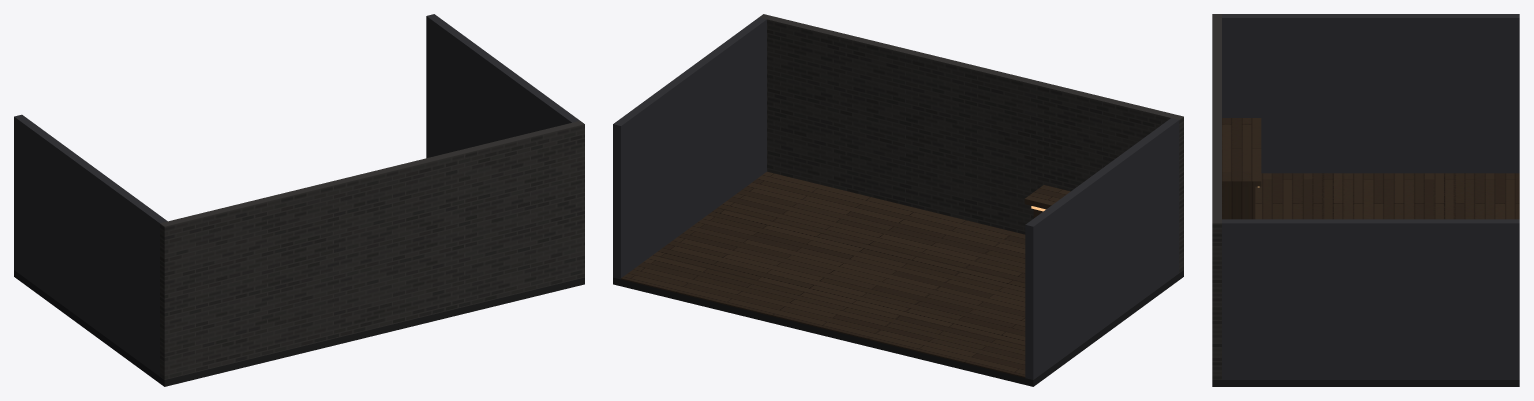
File: man-cave-room-enclosed-8Hi1eqqD.glb
The picture shows the model from 3 angles, left to right: view 1: azimuth 30°, elevation 25°; view 2: azimuth 150°, elevation 25°; view 3: azimuth 270°, elevation 25°; orthographic projection. The views are drawn at different scales.
Parts seen in each view (by area): view 1: ManCaveRoom; view 2: ManCaveRoom; view 3: ManCaveRoom.
Boxes of the visible parts, box(x1,y1,x2,y2) form: ManCaveRoom: box(14, 14, 584, 386); ManCaveRoom: box(613, 14, 1183, 386); ManCaveRoom: box(1212, 14, 1519, 386).
Bounding box in the file's own units: 8.32 × 3.03 × 5.16.
Materials: 2 (1 with a texture image).
